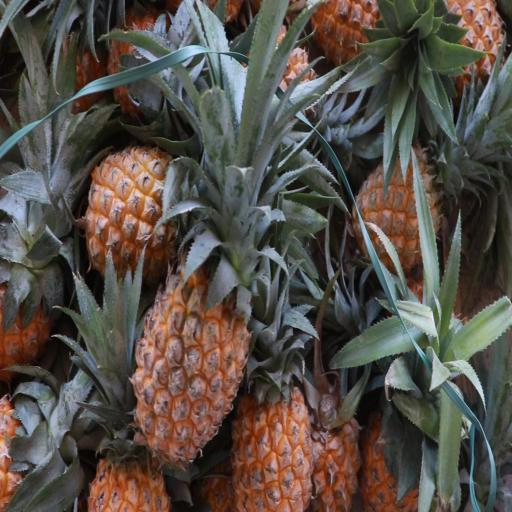Pineapple - v8 v1: (124, 229, 253, 472), (75, 133, 214, 293), (349, 138, 448, 292), (85, 366, 174, 512), (226, 367, 315, 512), (315, 381, 365, 512)
